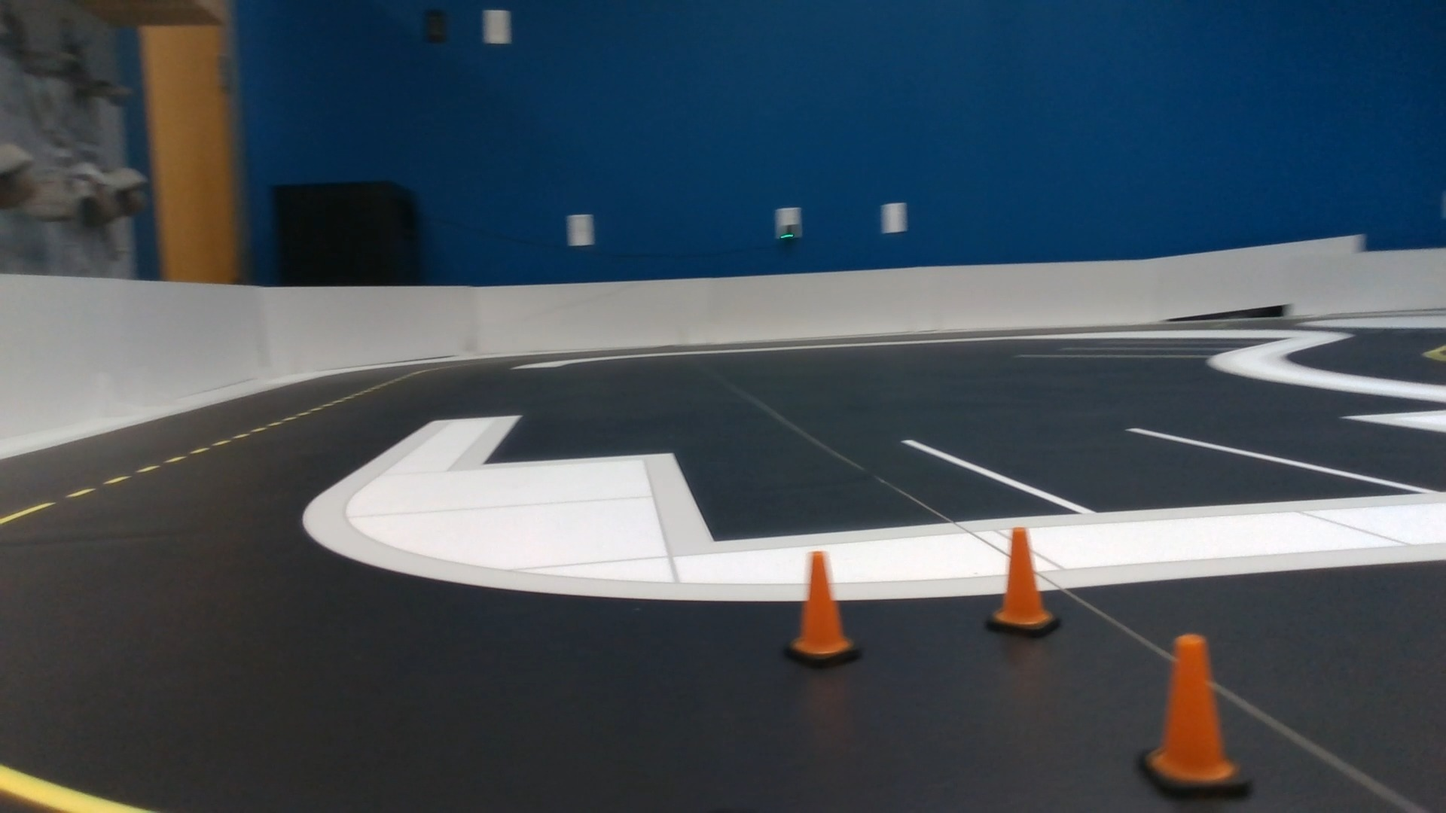Traffic Cone: (1139, 635, 1249, 796), (785, 551, 860, 666), (986, 528, 1060, 636)
